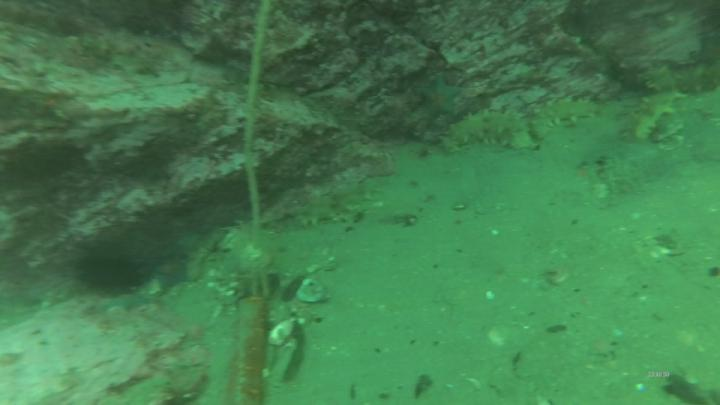echinus: (74, 252, 148, 299)
holothurian: (289, 182, 383, 229), (443, 105, 532, 153), (635, 64, 689, 141), (528, 96, 605, 140)
starfish: (150, 252, 198, 298), (101, 292, 152, 316)
